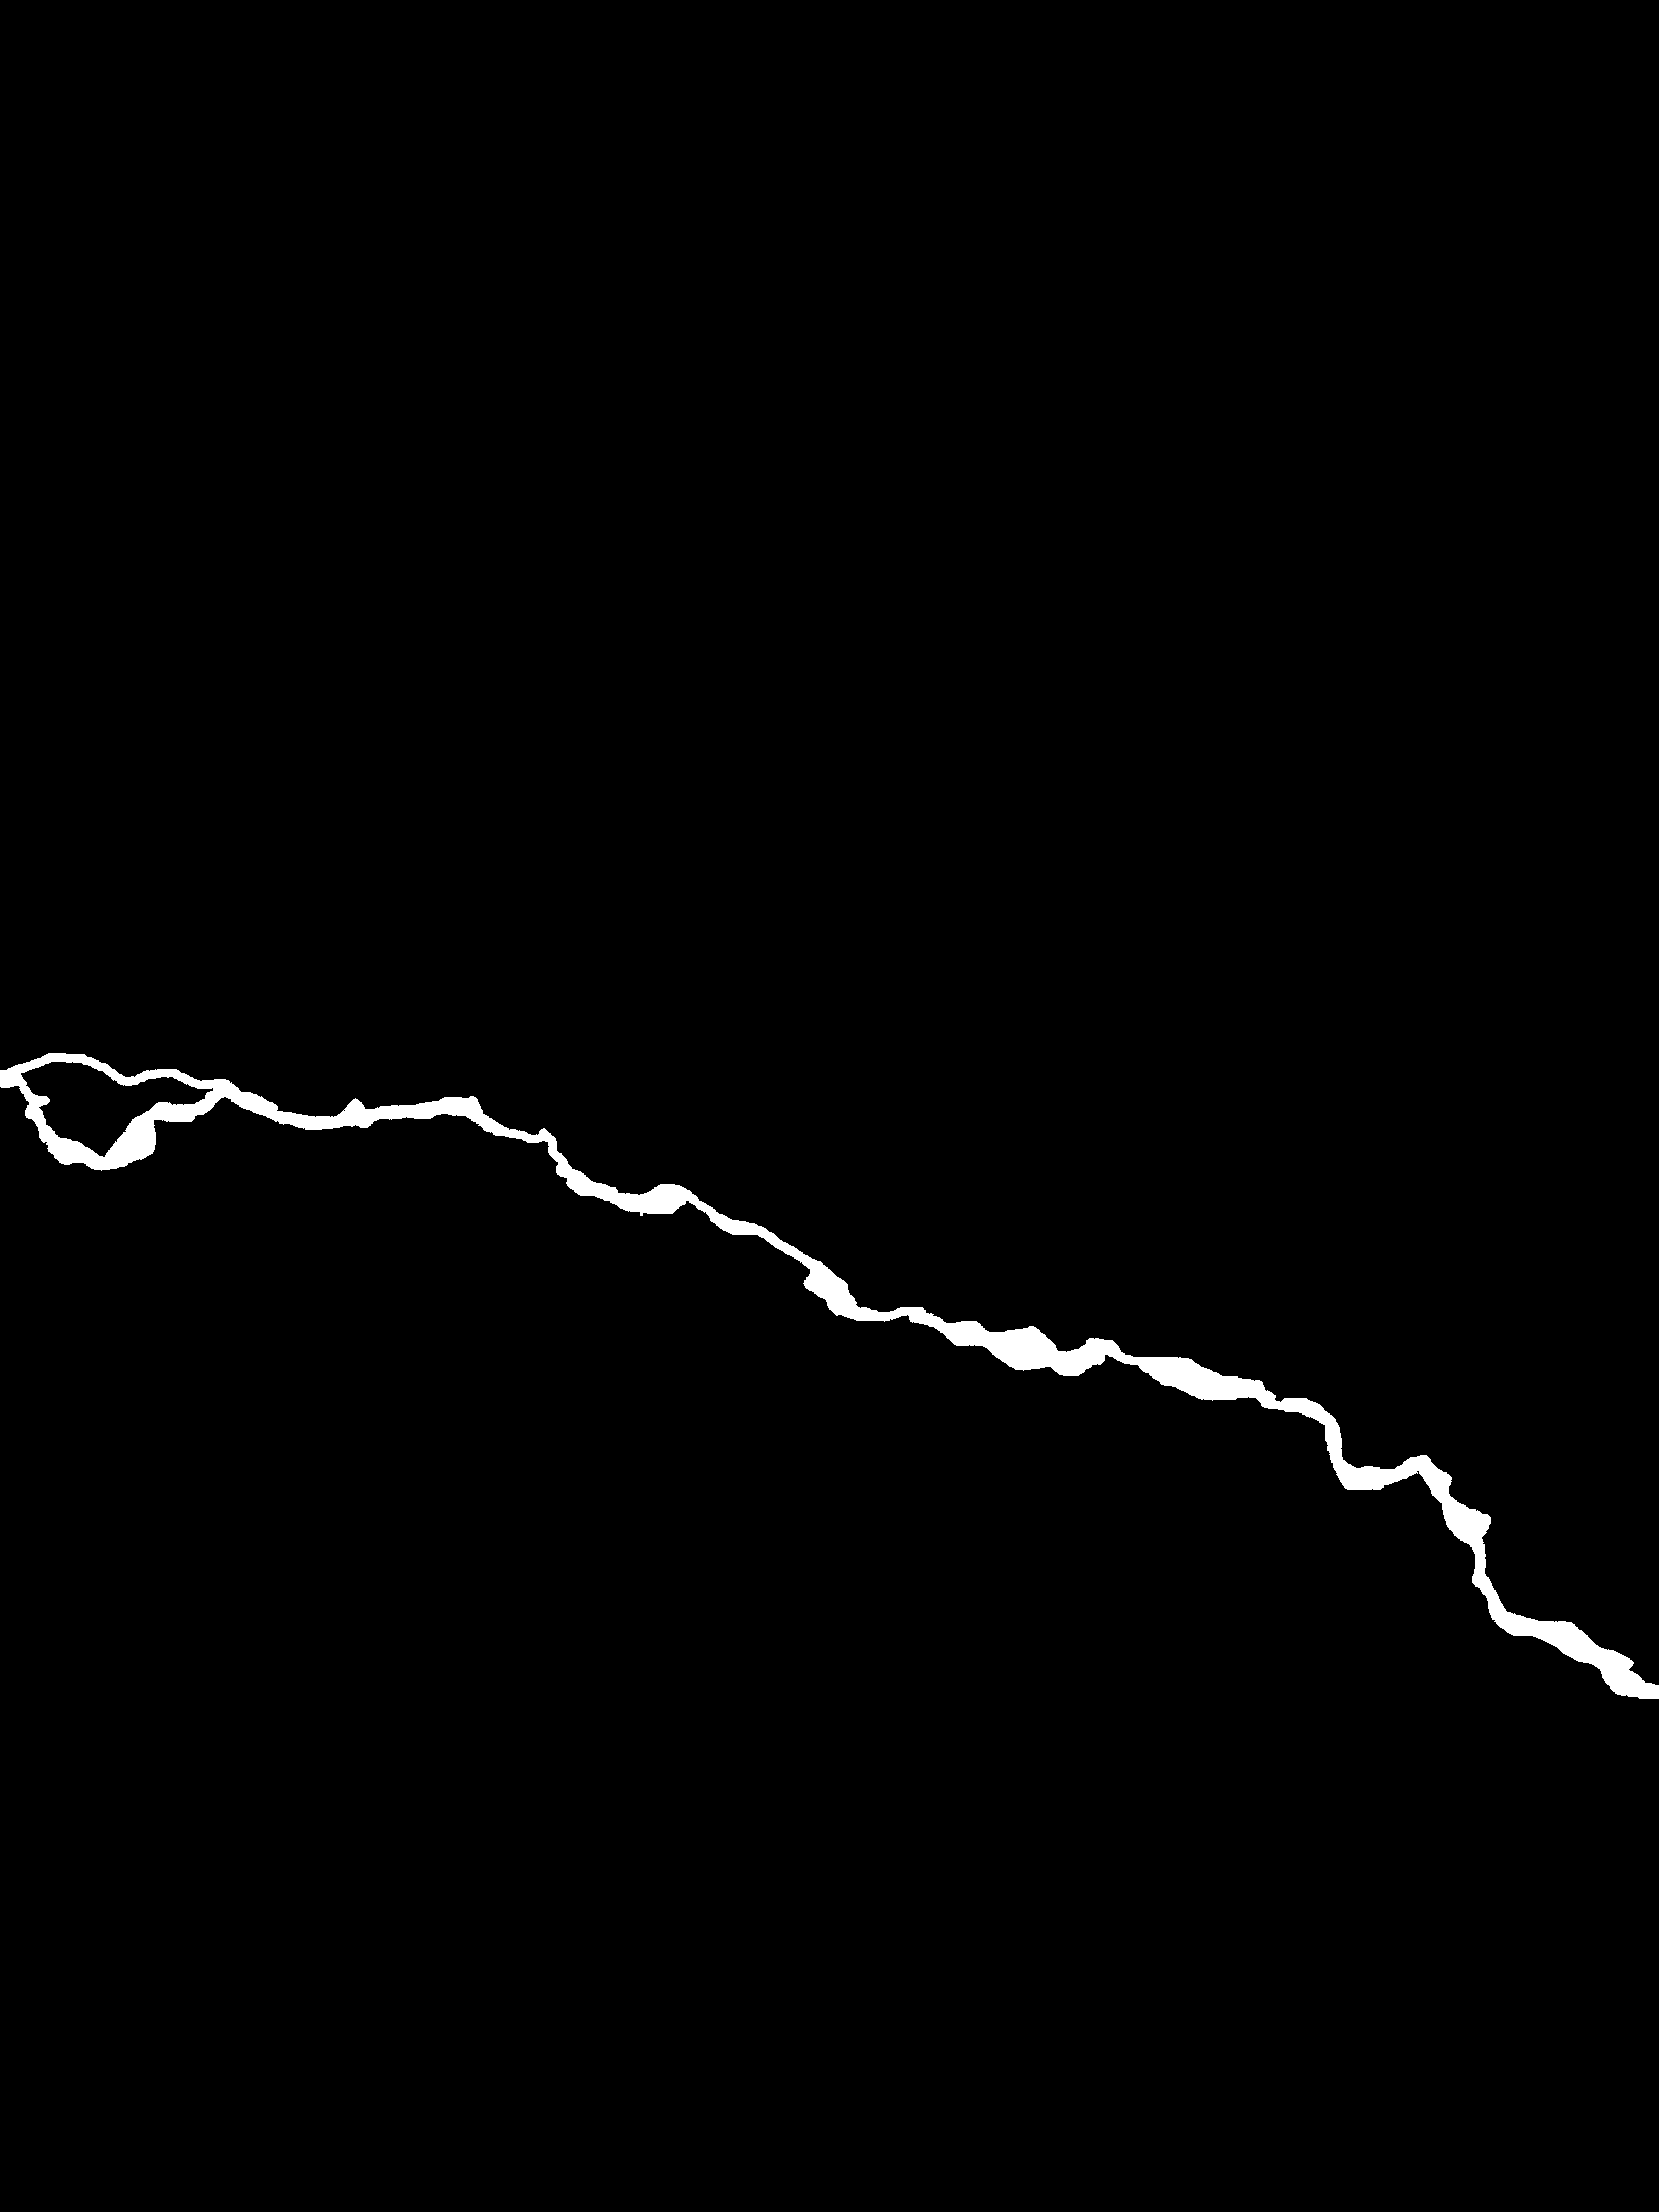Crack: (0, 1024, 1659, 1719)
